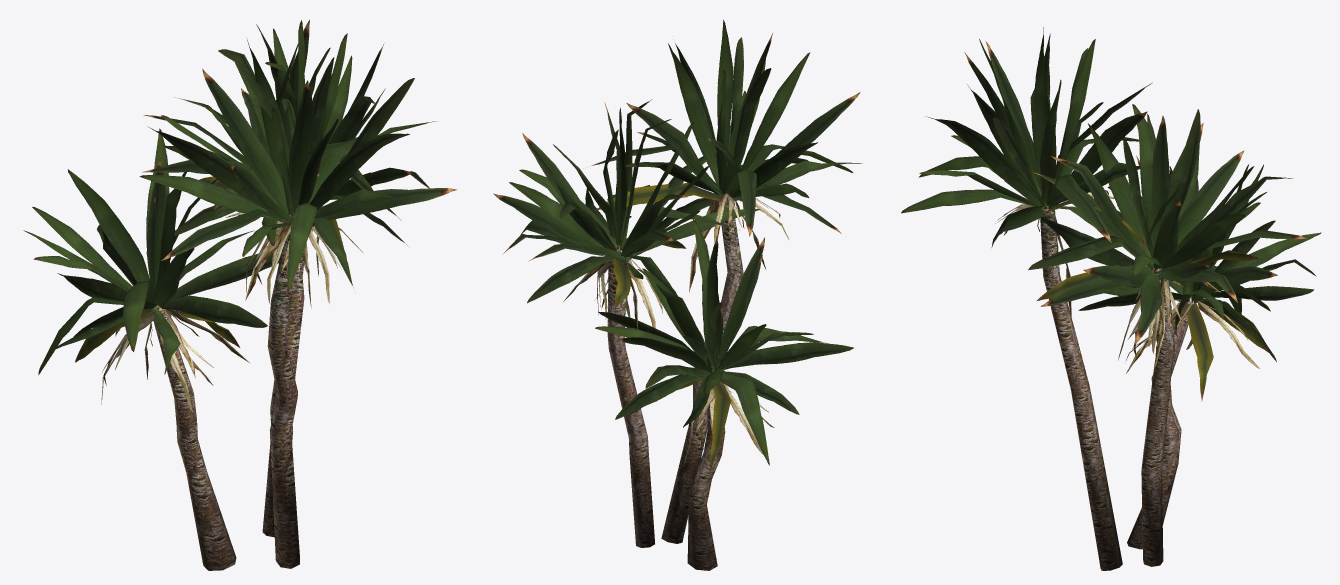
The model's file is MK4_Yucca2.DAE.
3 views of the same model, side by side, from view 1: azimuth 30°, elevation 25°; view 2: azimuth 150°, elevation 25°; view 3: azimuth 270°, elevation 25° (orthographic). The views are drawn at different scales.
Visible parts, largest first — view 1: MK4_Yucca2; view 2: MK4_Yucca2; view 3: MK4_Yucca2.
Part boxes in pixels (left/top/right/bottom): MK4_Yucca2: left=23, top=19, right=457, bottom=570; MK4_Yucca2: left=493, top=20, right=862, bottom=570; MK4_Yucca2: left=901, top=27, right=1321, bottom=570.
Size of what is drawn, in the model's own units: 10.29 by 10.73 by 14.94.
